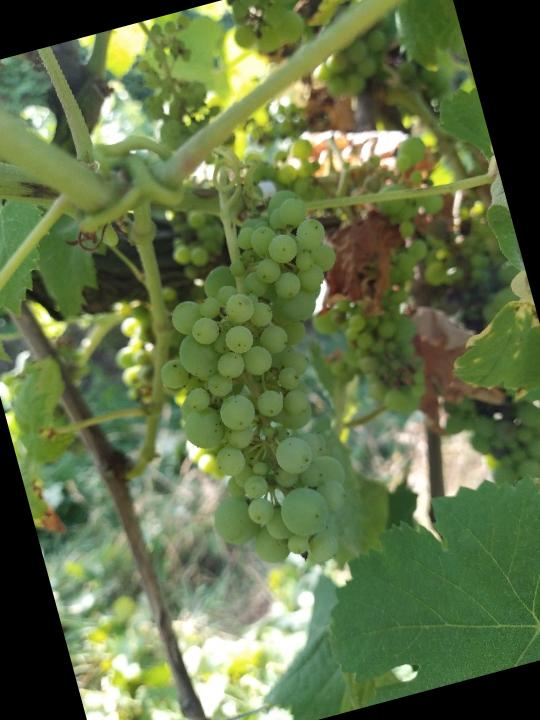grape: (121, 182, 416, 597)
